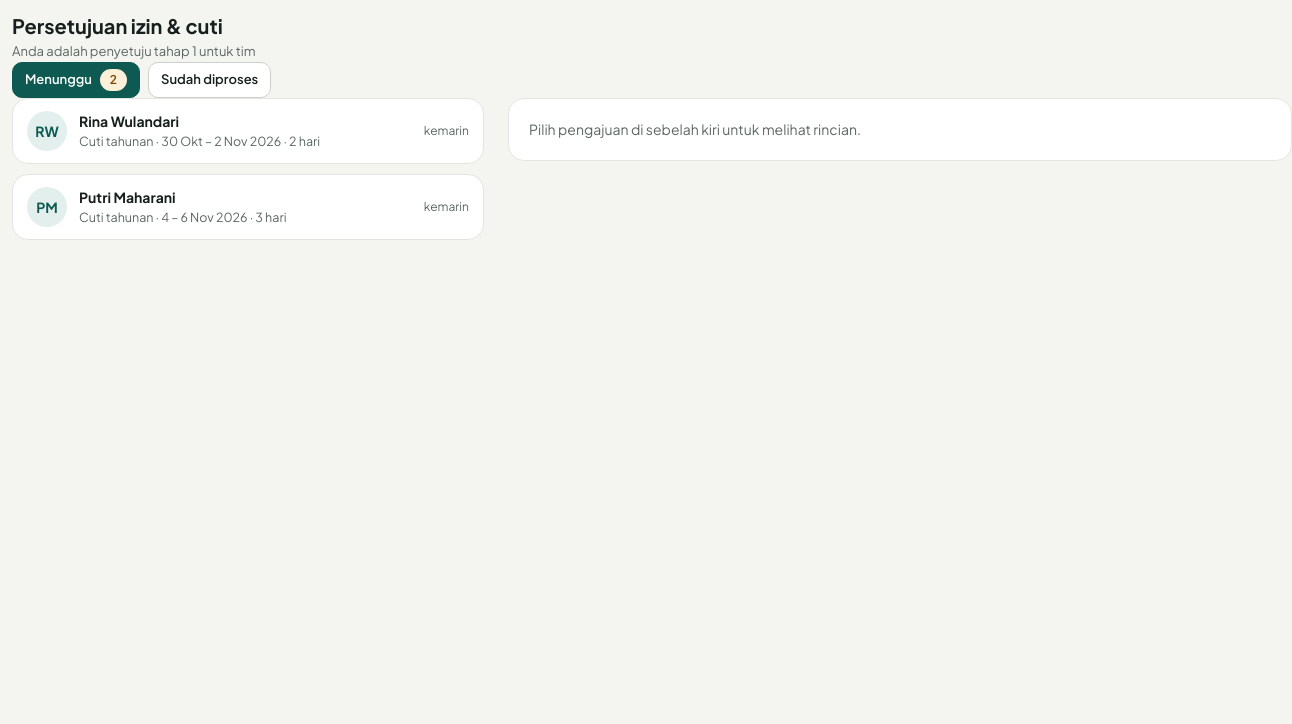
ApprovalsPage (H-10) › memilih pengajuan menampilkan detail, saldo, dan pemeriksaan bentrok
Click the button with test id "q-139" at (248, 206), box [12,174,484,240]
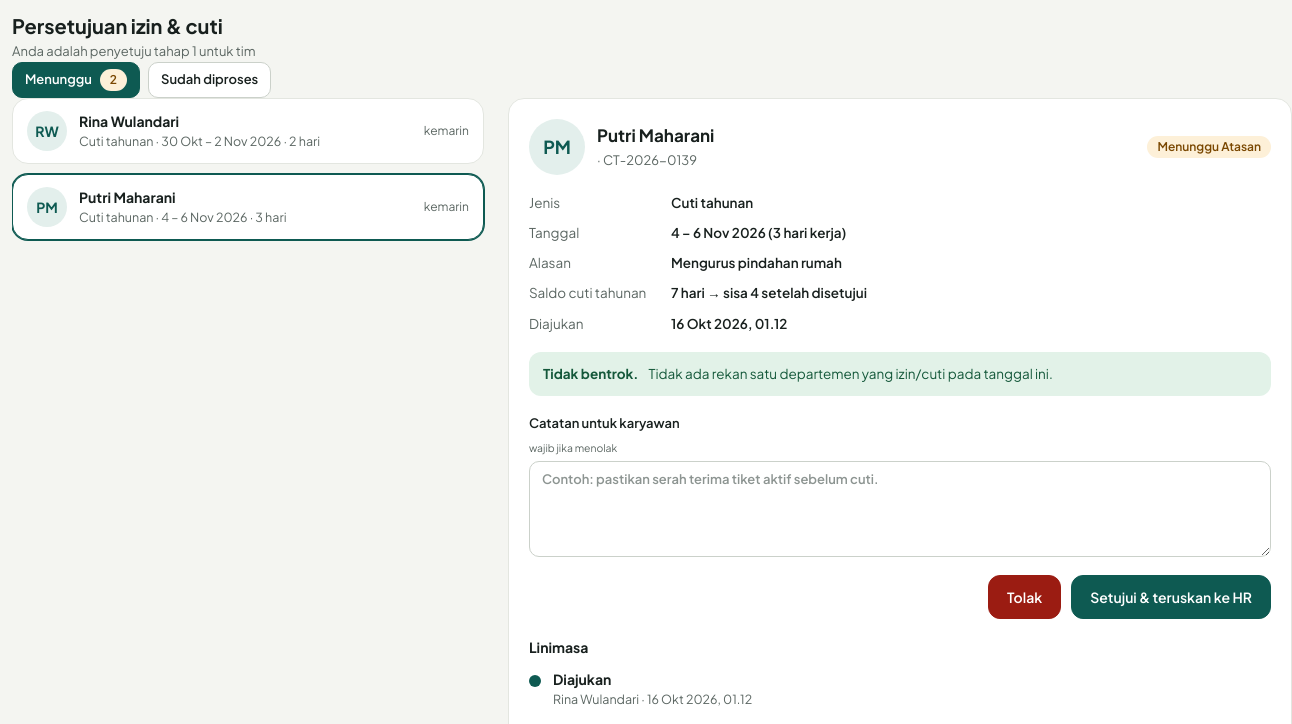
Result: the element with test id "detail" shows "Mengurus pindahan rumah" at [671,254,842,271]
Result: the text with test id "balance" reads "7 hari → sisa 4 setelah disetujui" at [671,284,867,301]
Result: the element with test id "conflict" shows "Tidak bentrok" at [543,365,638,382]
